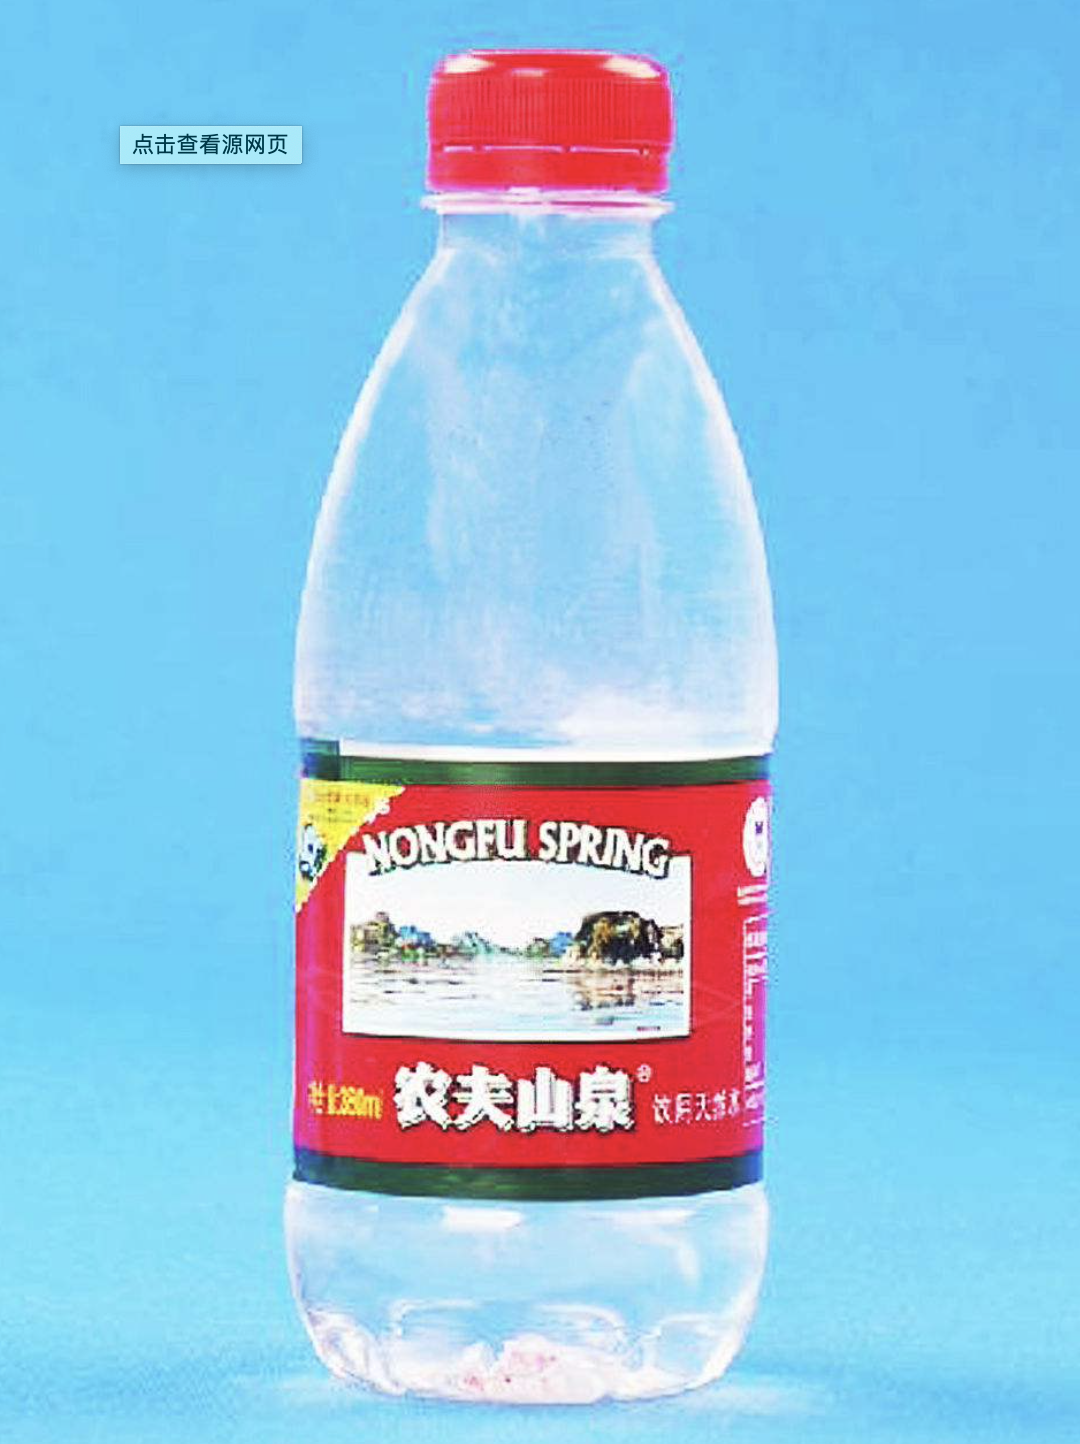农夫山泉: (261, 37, 800, 1412)
